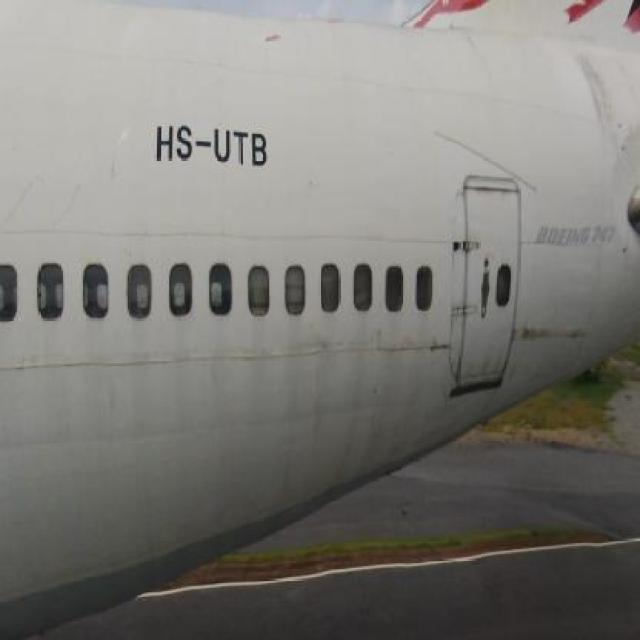Rust: (569, 48, 631, 175), (519, 316, 592, 366), (469, 174, 516, 206), (468, 350, 506, 382)
Scartch: (304, 328, 333, 442), (372, 323, 406, 369), (102, 133, 123, 202), (423, 332, 451, 368)
